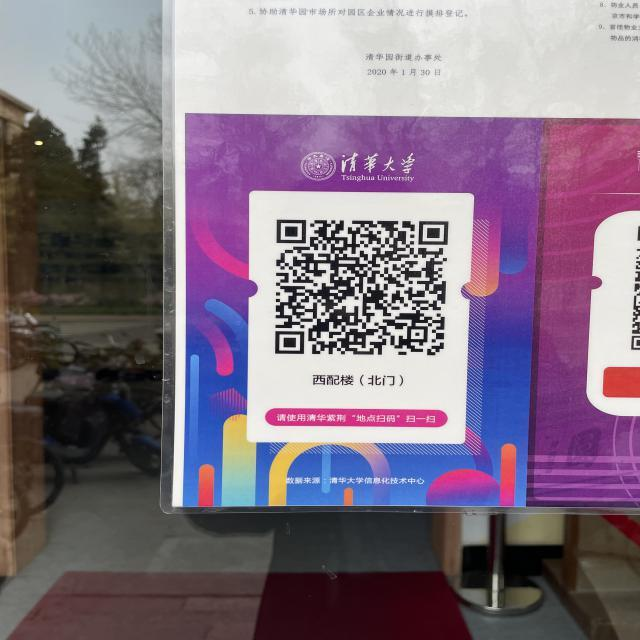qr_code: (275, 218, 447, 356)
